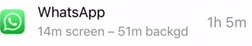name: (33, 2, 110, 23)
time: (116, 25, 144, 42), (35, 25, 64, 41)
